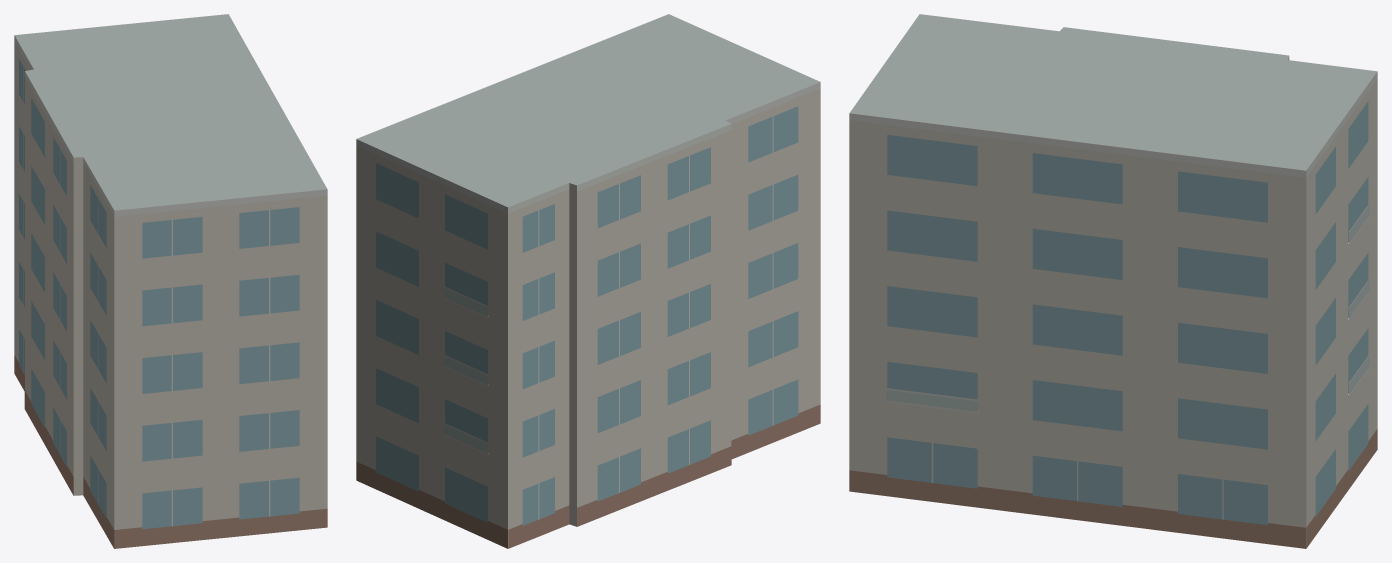
Rendered from survey-upis-32877712.glb.
3 views of the same model, side by side, from view 1: azimuth 30°, elevation 25°; view 2: azimuth 150°, elevation 25°; view 3: azimuth 270°, elevation 25° (orthographic). The views are drawn at different scales.
Parts seen in each view (by area): view 1: survey-upis-32877712.tmp; view 2: survey-upis-32877712.tmp; view 3: survey-upis-32877712.tmp.
Boxes of the visible parts, <box> form: survey-upis-32877712.tmp: <box>14,14,327,548</box>; survey-upis-32877712.tmp: <box>356,14,820,548</box>; survey-upis-32877712.tmp: <box>849,14,1377,548</box>.
Size of the model in its own units: 11.83 by 13.3 by 16.85.
